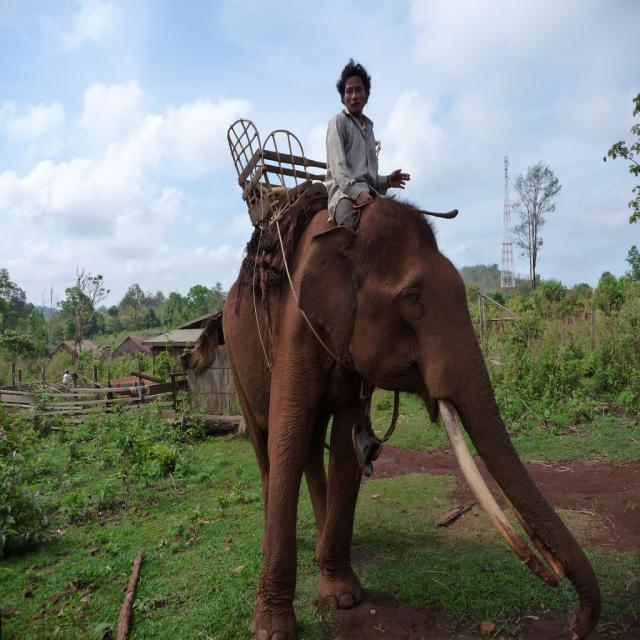elephant: (202, 172, 582, 618)
